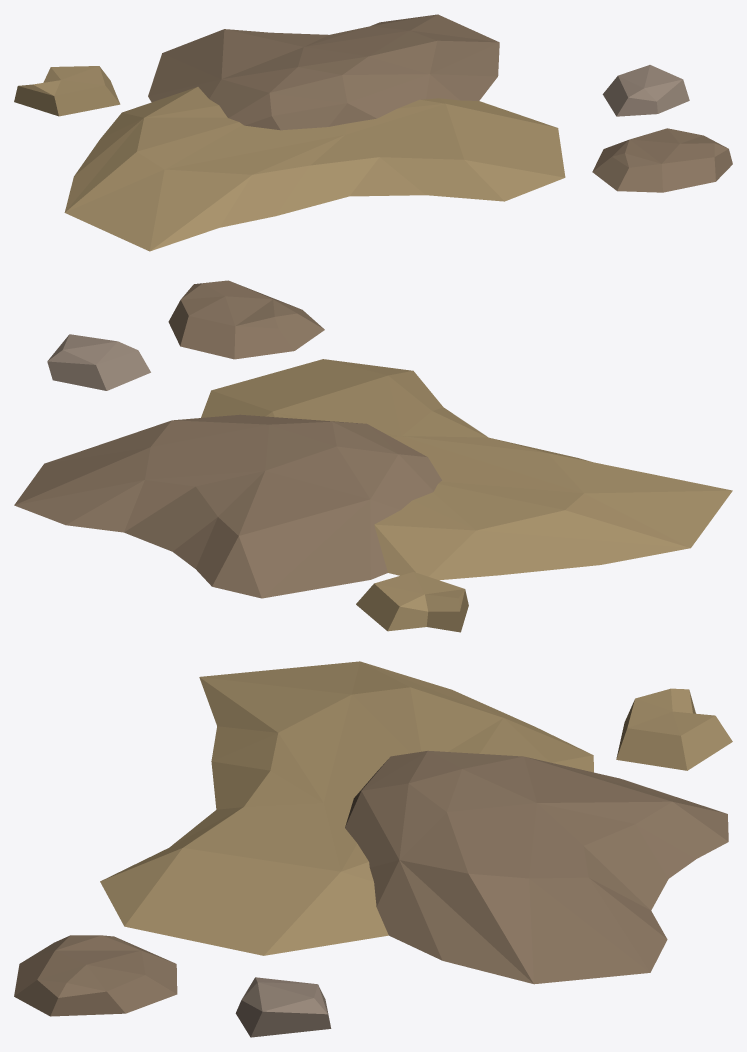
File: EA03_Environment_Sand_01b.glb
3 views of the same model, one above another, from view 1: azimuth 30°, elevation 25°; view 2: azimuth 150°, elevation 25°; view 3: azimuth 270°, elevation 25° (orthographic). The views are drawn at different scales.
Parts seen in each view (by area): view 1: EA03_Environment_Sand_01b; view 2: EA03_Environment_Sand_01b; view 3: EA03_Environment_Sand_01b.
Part boxes in pixels (x1,y1,x2,y2): EA03_Environment_Sand_01b: (14, 14, 732, 251); EA03_Environment_Sand_01b: (14, 280, 732, 632); EA03_Environment_Sand_01b: (14, 661, 732, 1037).
Size of the model in its own units: 8.82 by 0.7517 by 7.13.
Materials: 1 (1 with a texture image).
